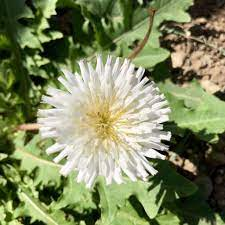dandelion white: (37, 52, 173, 186)
